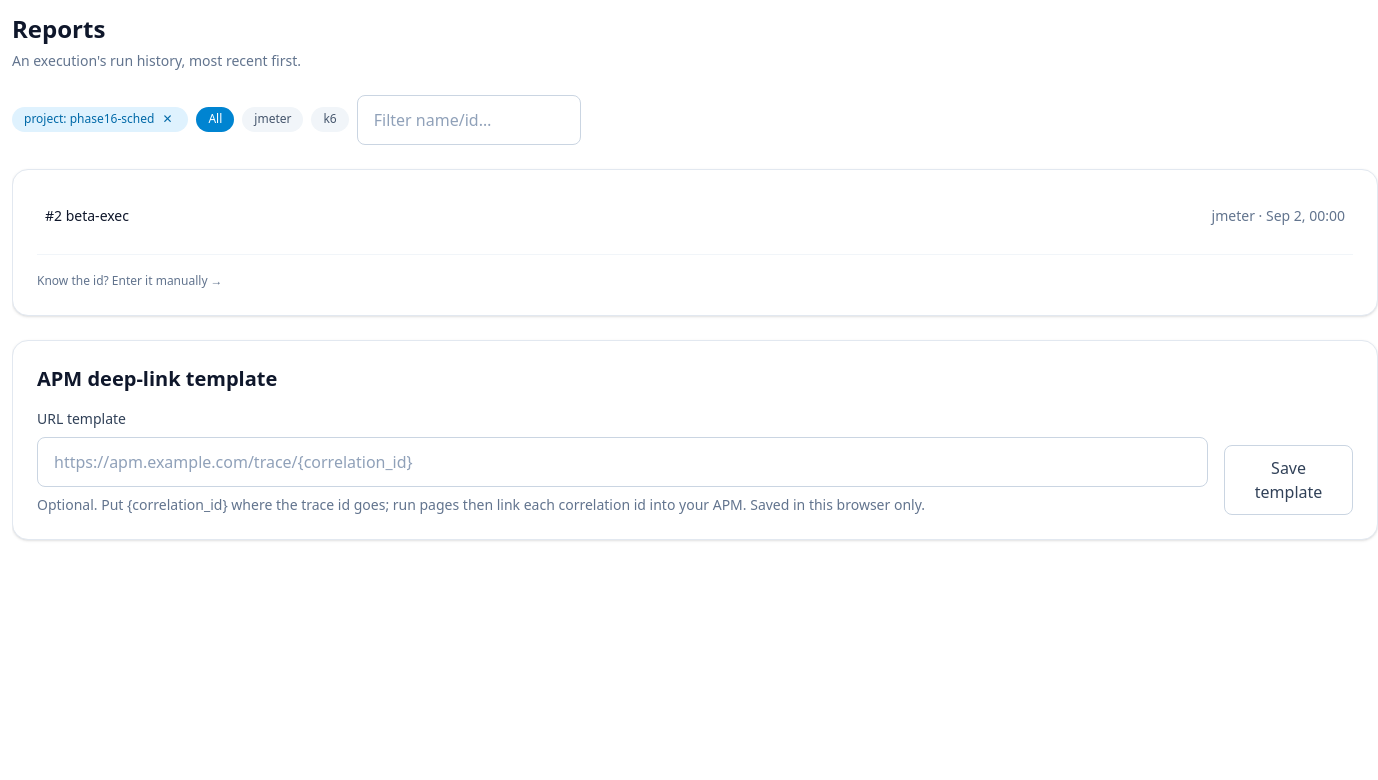
Test case: ReportsList project filter (phase 32) › clearing the chip returns every execution and unscopes the stored selection
This screenshot has width=1378, height=780.
Click the button "✕" at (167, 120), box [158, 111, 176, 128]
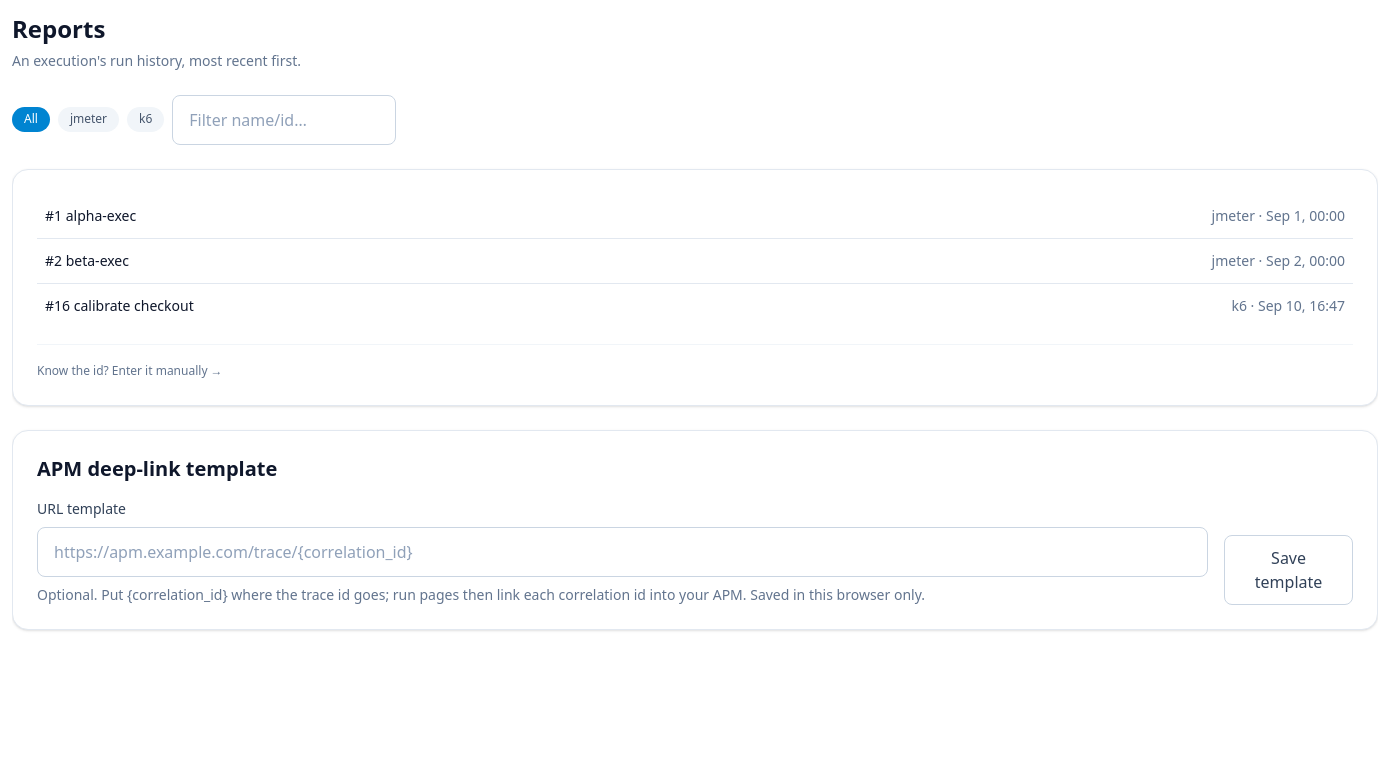
Expected: the button with test id "execution-2" is shown, [37, 239, 1353, 283]
Result: the button with test id "execution-1" is shown at [37, 194, 1353, 238]
Result: the element with test id "filter-project" is gone
